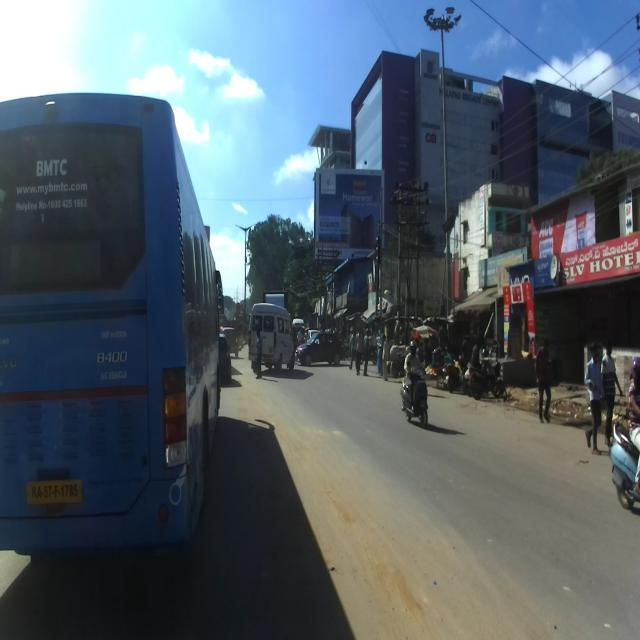bus: (0, 92, 222, 582)
mini-bus: (248, 303, 294, 369)
scooter: (399, 360, 428, 427)
